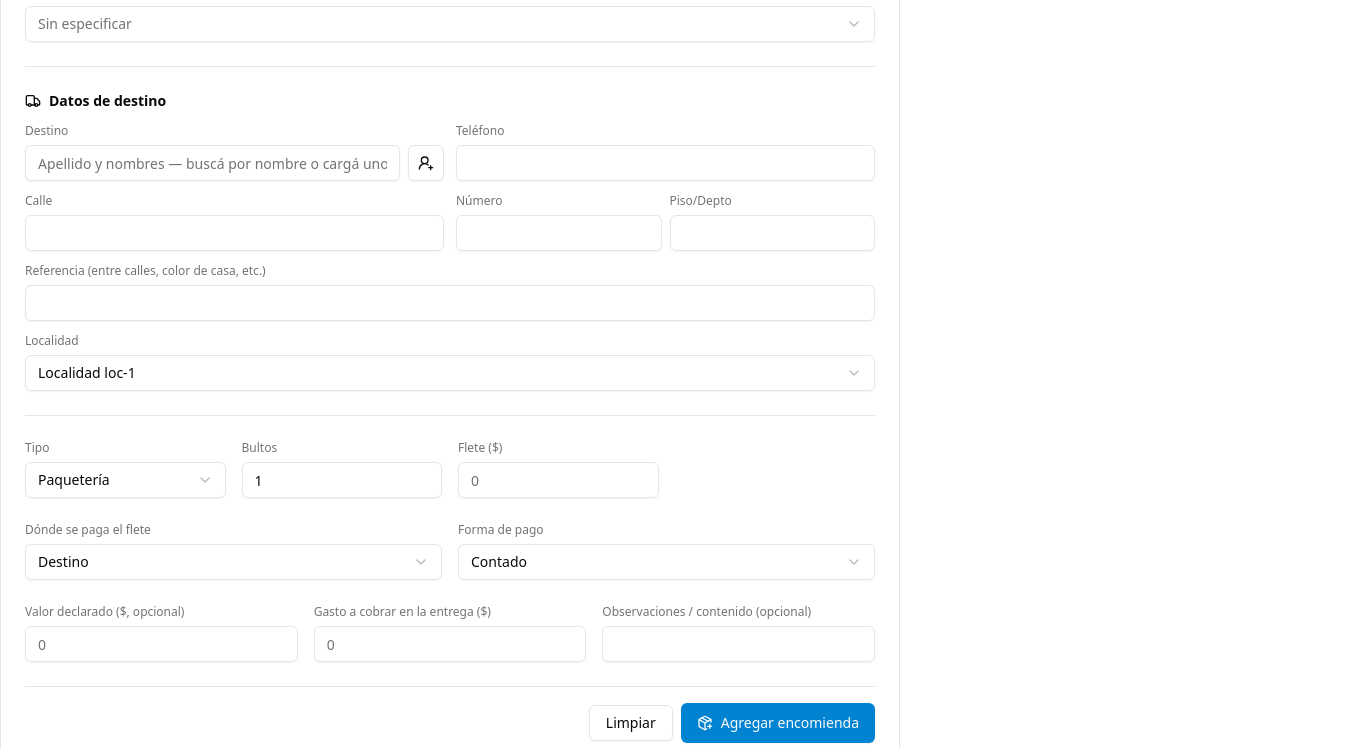
Test: NuevaEncomiendaView - modo Individual › no envía nada y muestra los errores si faltan campos obligatorios
The width and height of the screenshot is (1366, 748).
(page scrolled)
Click the button "Agregar encomienda". click: (778, 723)
box: top-left (681, 703), bottom-right (875, 743)
(page scrolled)
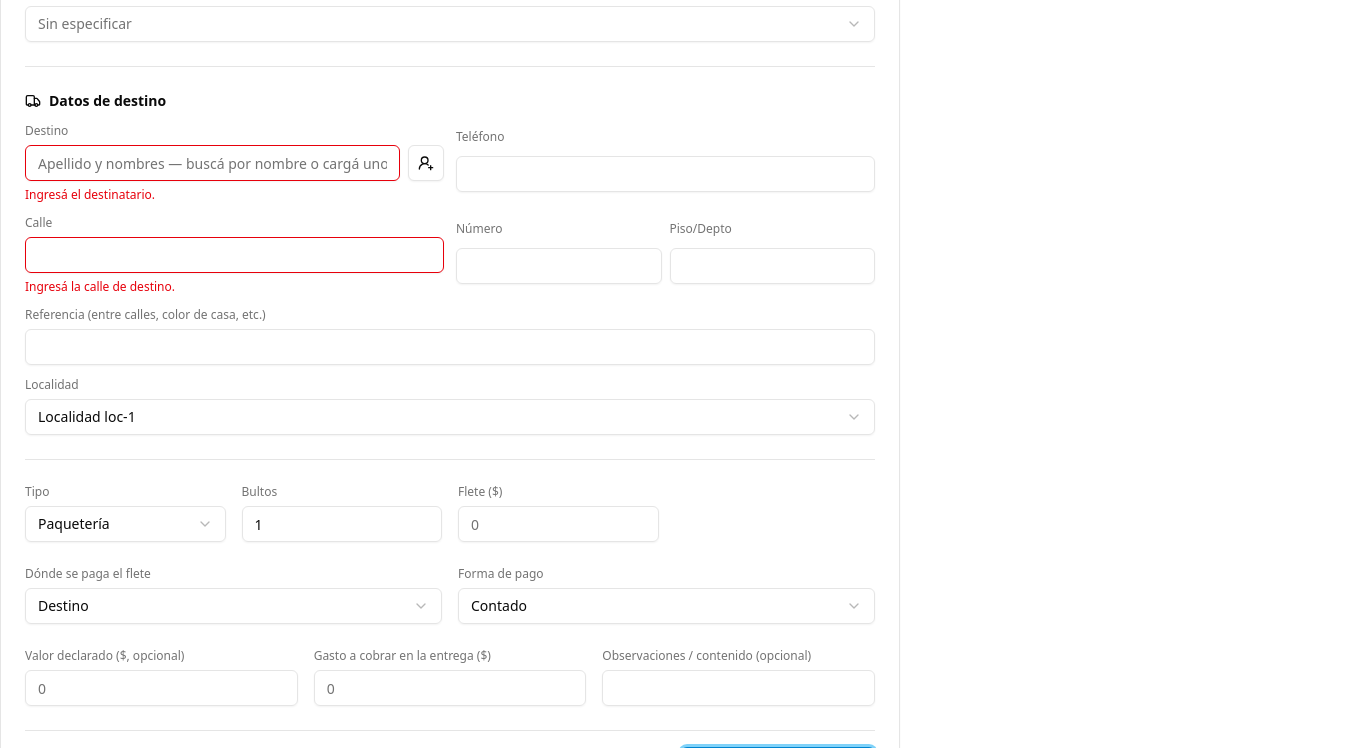
Expected: the text "Ingresá el destinatario." is shown, top-left (25, 186), bottom-right (155, 203)
Expected: the text "Ingresá la calle de destino." is shown, top-left (25, 278), bottom-right (175, 295)
